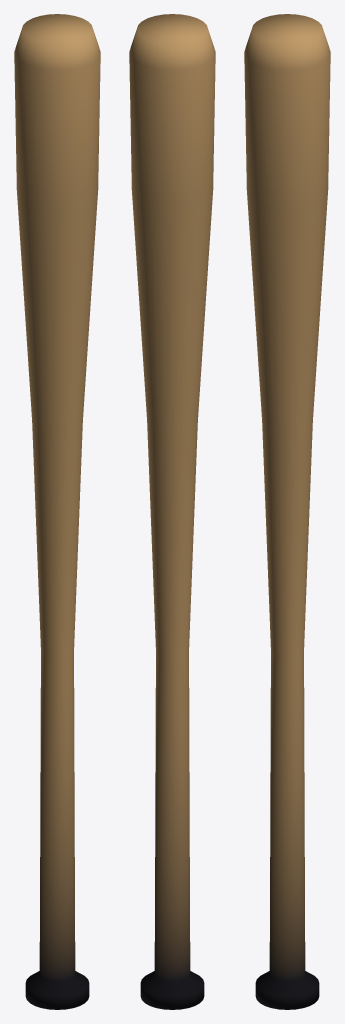
The model's file is baseball_bat.glb.
3 renders of one model, left to right at view 1: azimuth 30°, elevation 25°; view 2: azimuth 210°, elevation 25°; view 3: azimuth 270°, elevation 25°, orthographic.
Parts seen in each view (by area): view 1: baseball_bat; view 2: baseball_bat; view 3: baseball_bat.
Boxes of the visible parts, box(x1,y1,x2,y2) form: baseball_bat: box(14, 14, 100, 1009); baseball_bat: box(129, 14, 215, 1009); baseball_bat: box(244, 14, 330, 1009).
Size of the model in its own units: 0.068 by 0.84 by 0.068.
